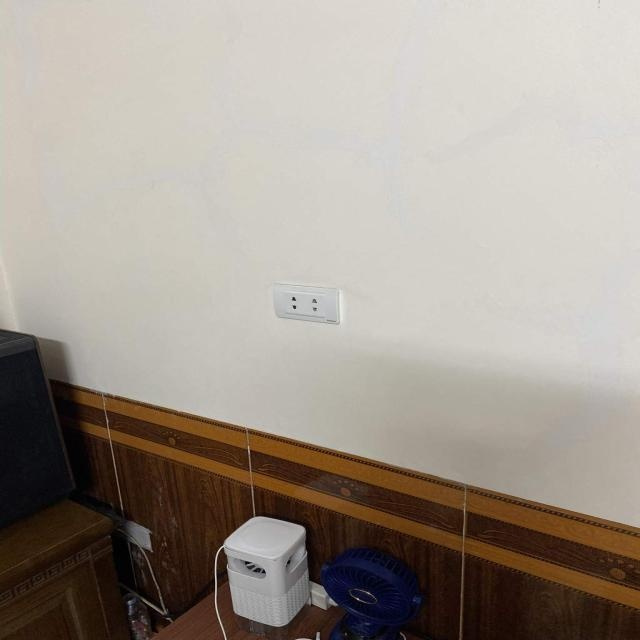outlet: (272, 283, 340, 324)
